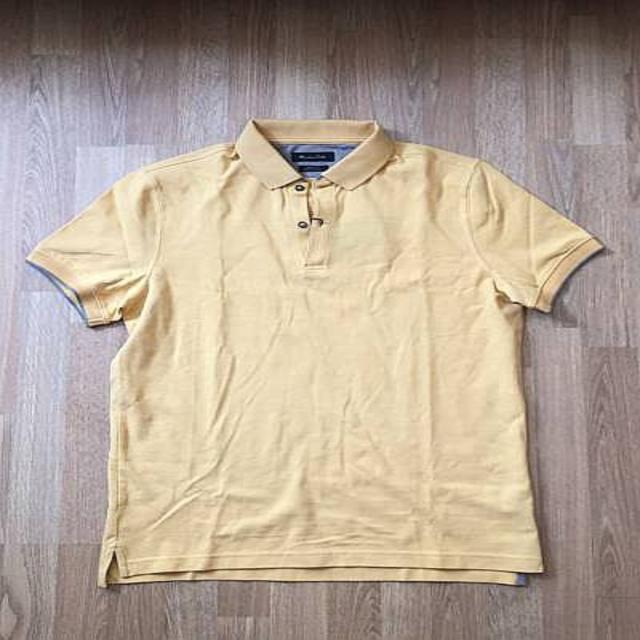T_SHIRT: (14, 102, 619, 605)
